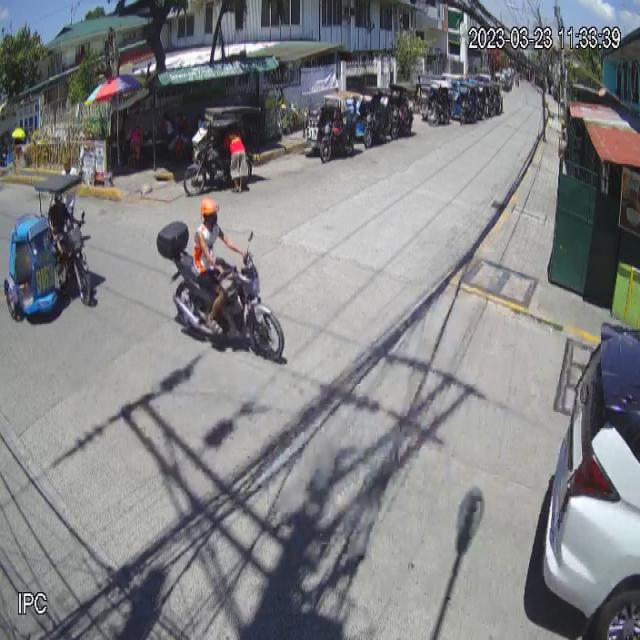Motorcycle: (157, 220, 286, 359)
Tricycle: (4, 174, 94, 321)
